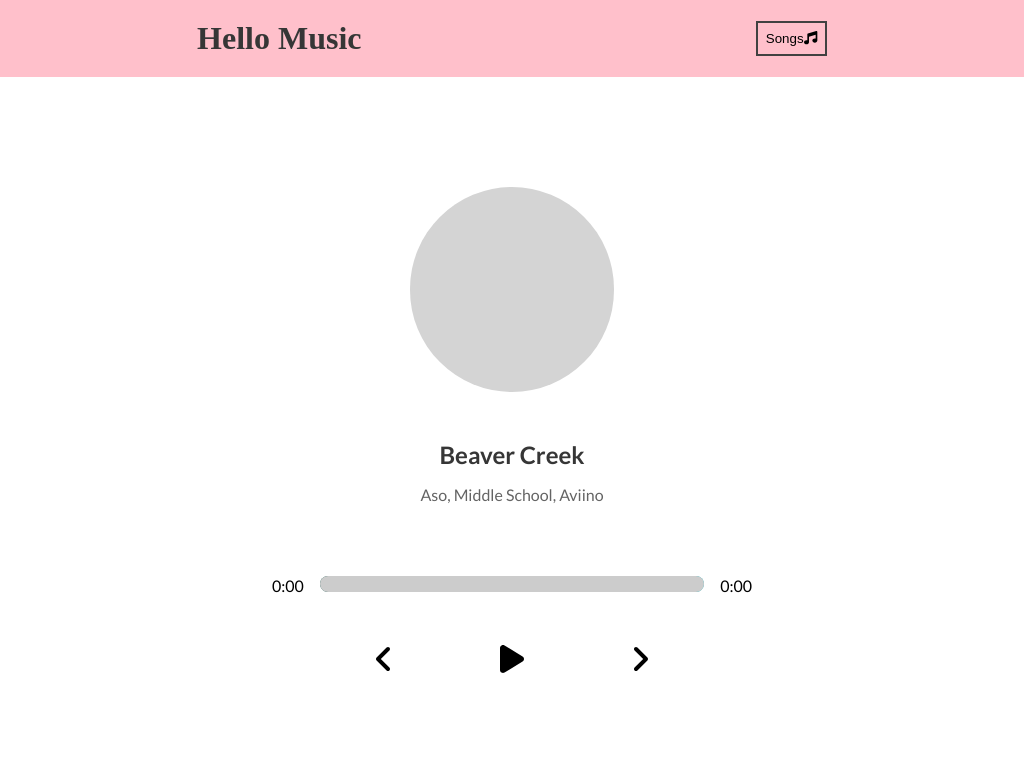
Music Player App › should skip to the previous song
The image size is (1024, 768).
What coordinates should you click on to do the following:
click the picture with class "skip-back"
I would click on:
 (384, 659)
Its box is [374,643,394,675].
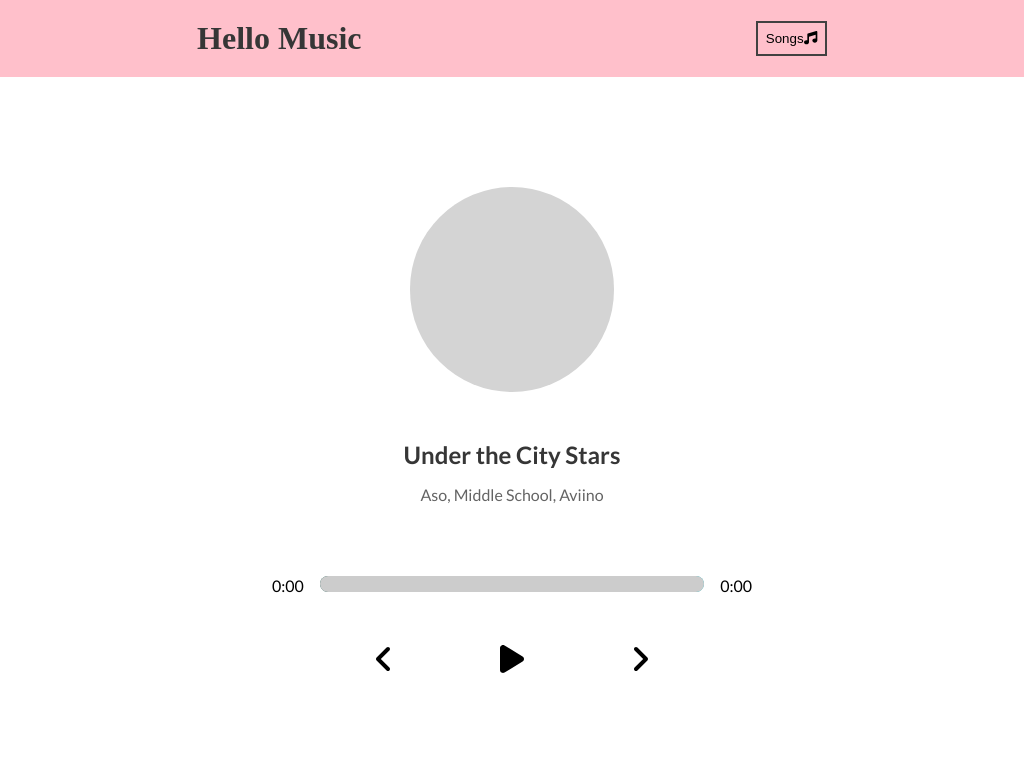
Result: the heading with class "song-container" reads "Under the City Stars" at [404,440,621,469]
